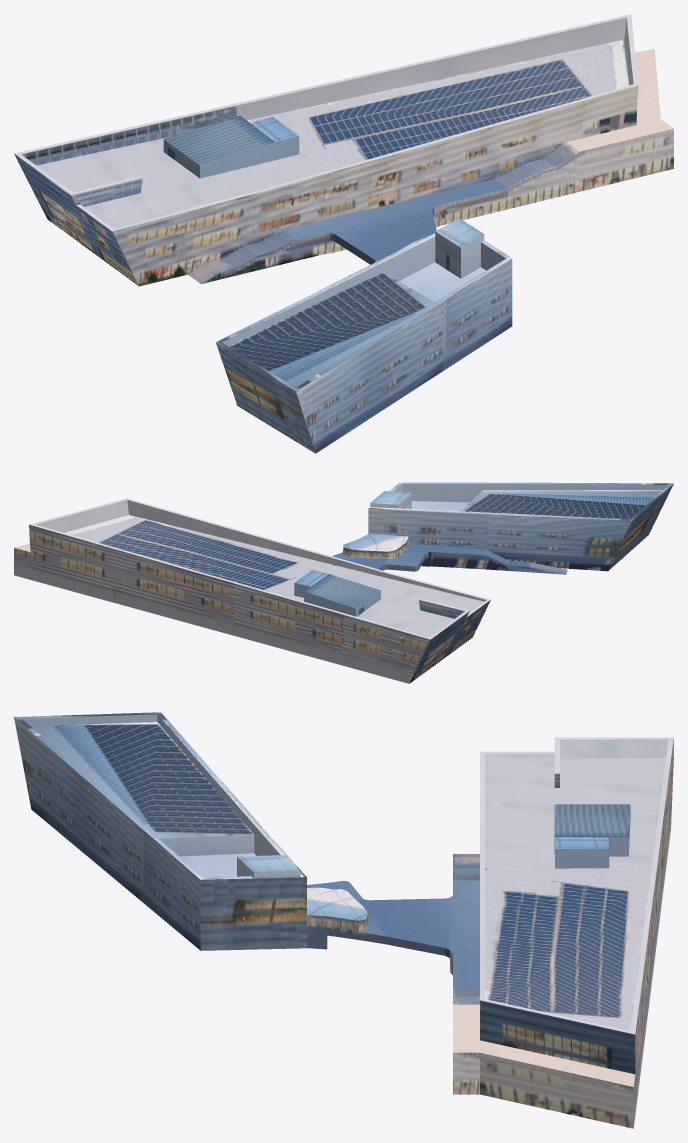
The model's file is ICJ00008.glb.
3 views of the same model, one above another, from view 1: azimuth 30°, elevation 25°; view 2: azimuth 150°, elevation 25°; view 3: azimuth 270°, elevation 25° (orthographic). The views are drawn at different scales.
Visible parts, largest first — view 1: MainBuilding; view 2: MainBuilding; view 3: MainBuilding.
Part boxes in pixels (x1=…): MainBuilding: x1=14, y1=14, x2=673, y2=453; MainBuilding: x1=14, y1=482, x2=673, y2=683; MainBuilding: x1=14, y1=712, x2=673, y2=1128.
Size of the model in its own units: 1015 by 116 by 837.
1 material, 1 textured.
